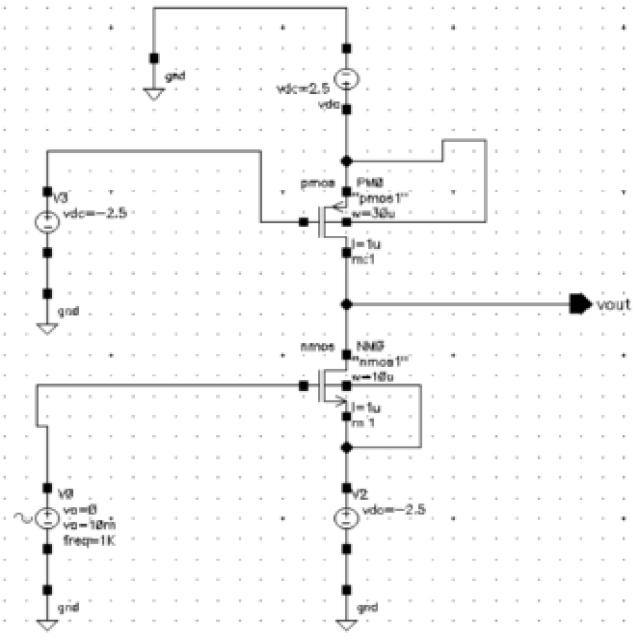gnd: (28, 585, 62, 638), (332, 583, 364, 636), (138, 54, 167, 106), (32, 288, 61, 339)
nmos: (294, 351, 354, 424)
pmos: (293, 188, 354, 264)
vdc: (326, 482, 365, 559), (327, 44, 367, 118), (26, 186, 60, 264)
vsin: (13, 482, 60, 554)
